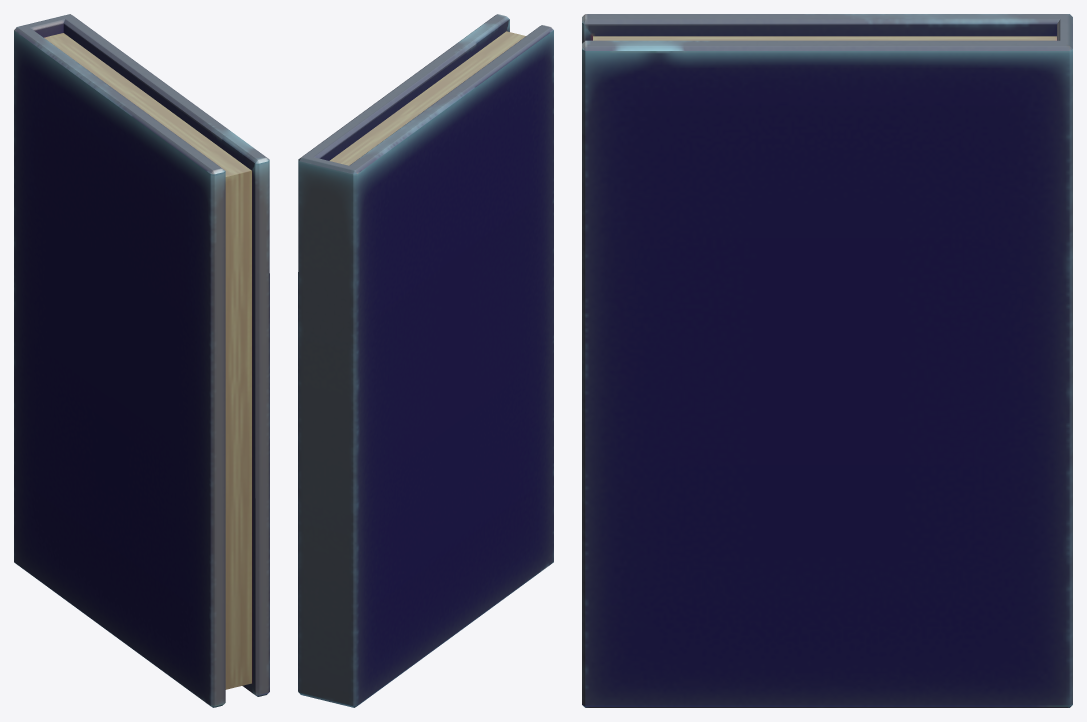
Rendered from Libro_5.fbx.
The picture shows the model from 3 angles, left to right: view 1: azimuth 30°, elevation 25°; view 2: azimuth 150°, elevation 25°; view 3: azimuth 270°, elevation 25°; orthographic projection. The views are drawn at different scales.
Parts seen in each view (by area): view 1: Libros 5; view 2: Libros 5; view 3: Libros 5.
Part boxes in pixels (x1,y1,x2,y2): Libros 5: (14,14,269,707); Libros 5: (298,14,553,707); Libros 5: (582,14,1072,707).
Bounding box in the file's own units: 10.86 × 93.81 × 63.07.
